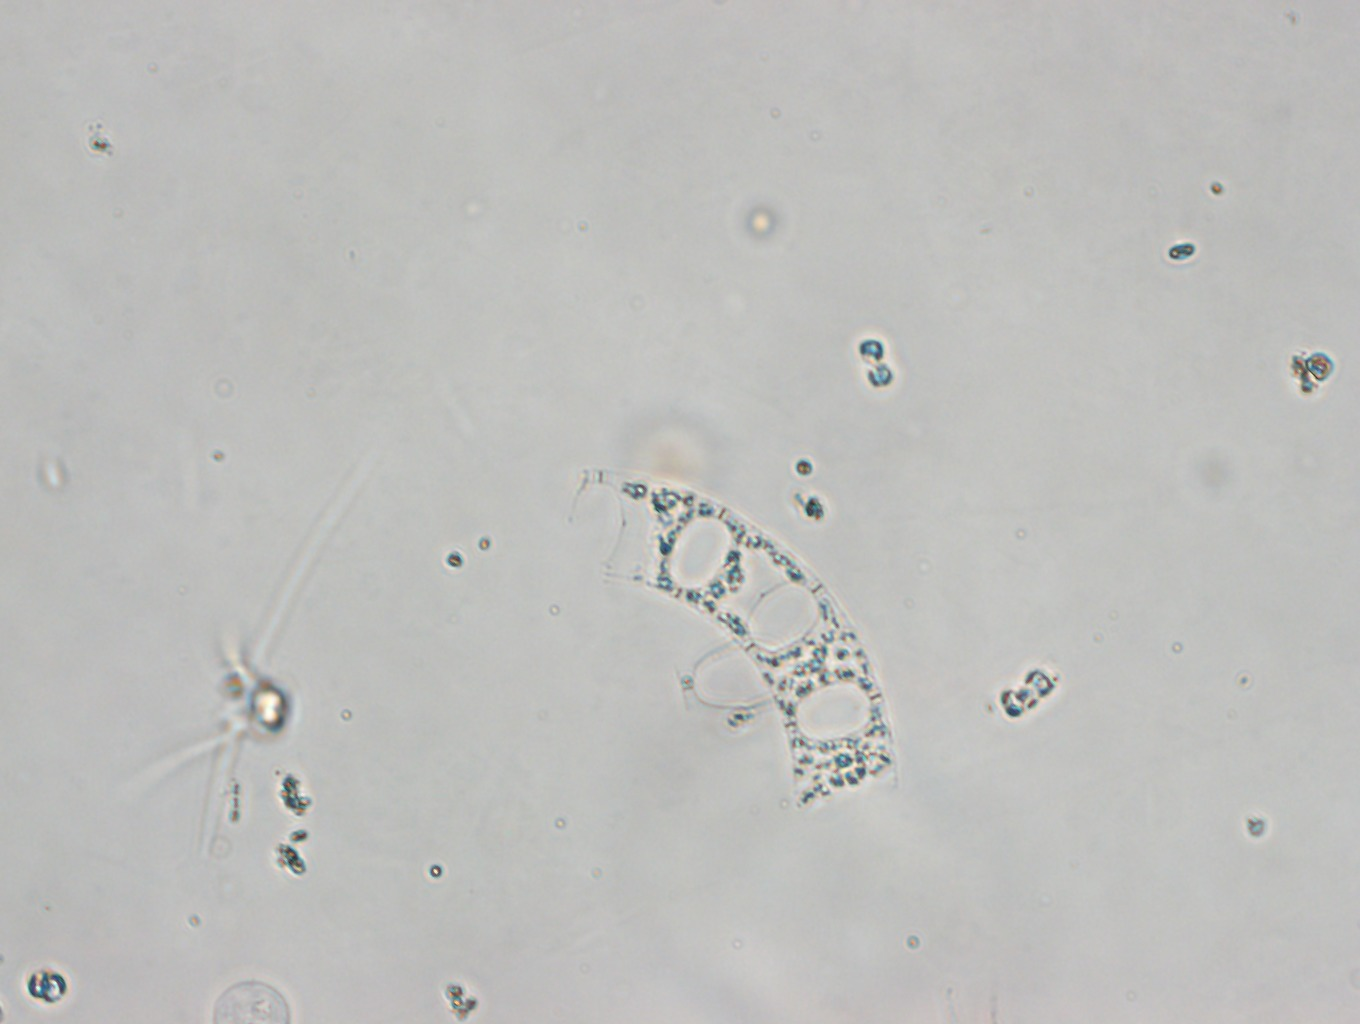eucampia: (555, 459, 894, 815)
